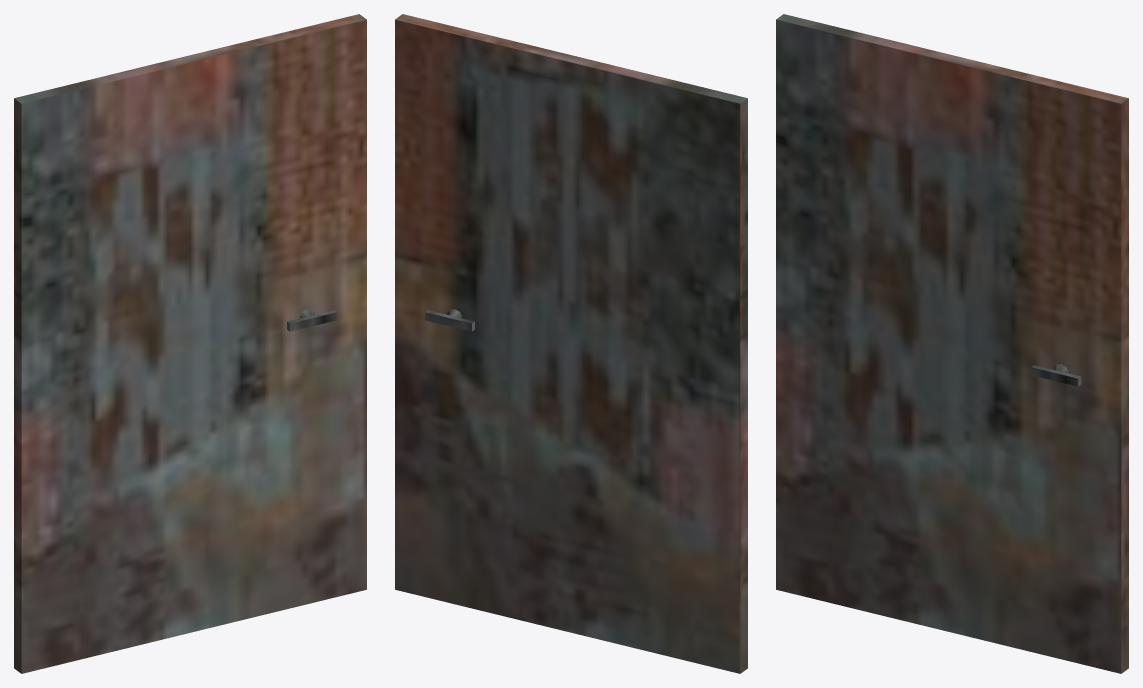
File: metal_door_textured.glb
3 views of the same model, side by side, from view 1: azimuth 30°, elevation 25°; view 2: azimuth 150°, elevation 25°; view 3: azimuth 330°, elevation 25° (orthographic).
Visible parts, largest first — view 1: Cube; view 2: Cube; view 3: Cube.
Part boxes in pixels (x1=…): Cube: x1=14, y1=14, x2=366, y2=673; Cube: x1=395, y1=14, x2=747, y2=673; Cube: x1=776, y1=14, x2=1128, y2=673.
Bounding box in the file's own units: 0.9188 × 1.45 × 0.0948.
1 material, 1 textured.
